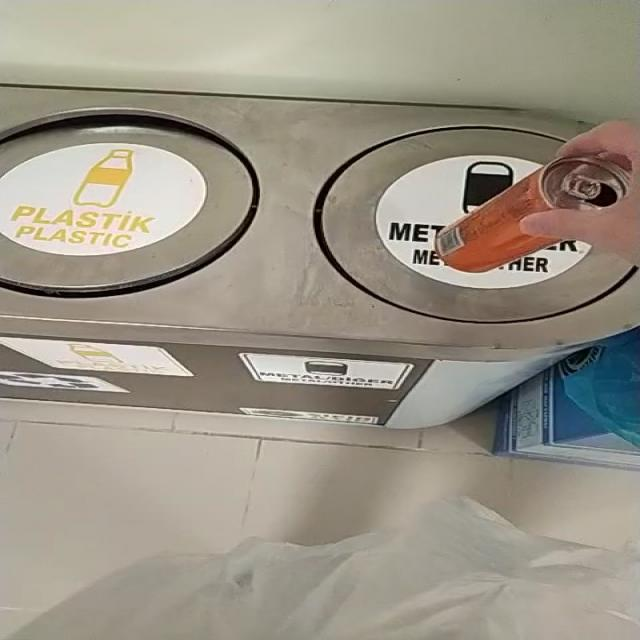bin: (0, 85, 639, 430)
metal: (436, 156, 633, 272)
